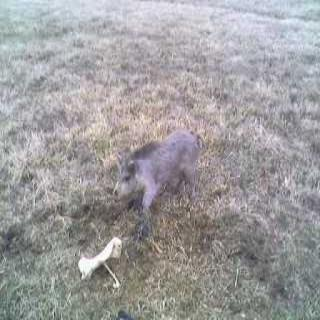Pig: (115, 120, 229, 228)
